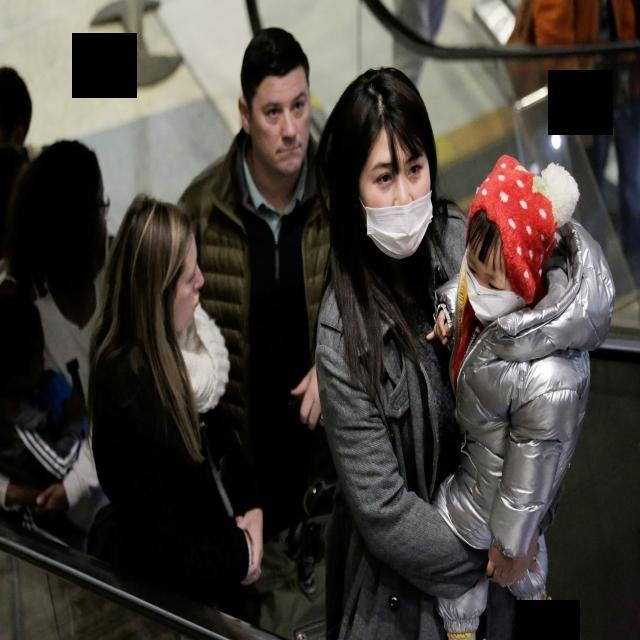hairnet: (341, 181, 439, 263)
mask: (462, 259, 524, 328)
no_gloves: (321, 64, 445, 175), (107, 191, 204, 268), (238, 22, 313, 105)
no_hairnet: (239, 119, 317, 180), (160, 271, 209, 340)
